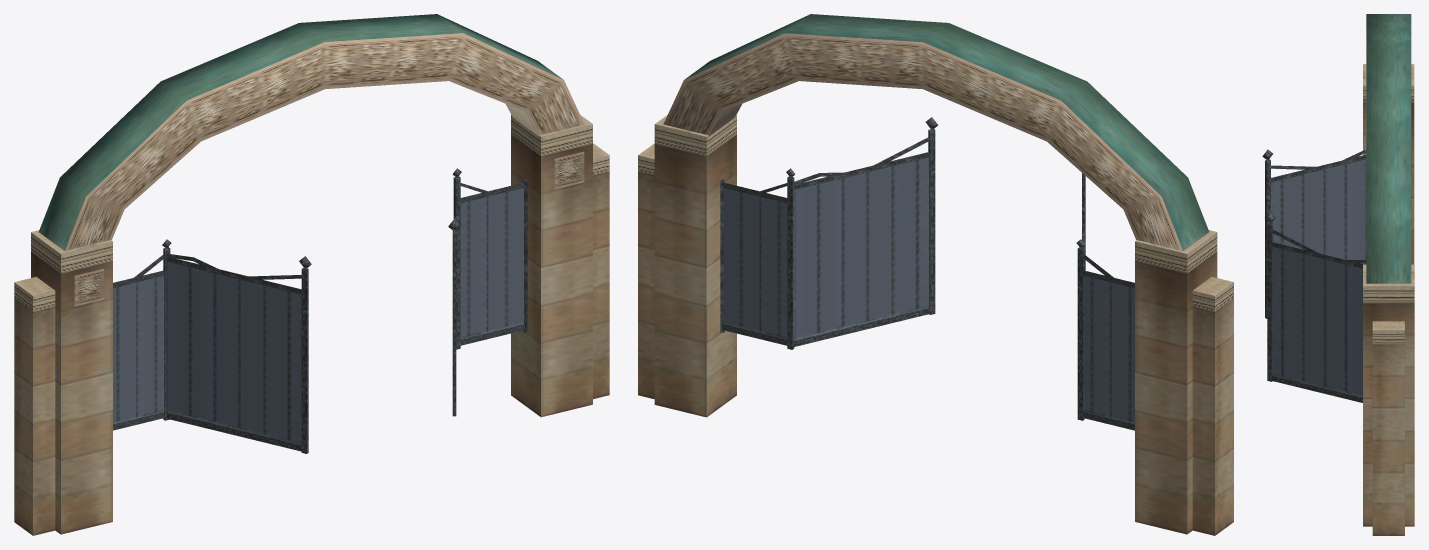
Rendered from thm_nboo_imprv_wide_gate_s02_l2.fbx.
3 views of the same model, side by side, from view 1: azimuth 30°, elevation 25°; view 2: azimuth 150°, elevation 25°; view 3: azimuth 270°, elevation 25° (orthographic). The views are drawn at different scales.
Parts seen in each view (by area): view 1: mesh_node; view 2: mesh_node; view 3: mesh_node.
Boxes of the visible parts, left/top/right/bottom form: mesh_node: left=14, top=14, right=609, bottom=535; mesh_node: left=638, top=14, right=1233, bottom=535; mesh_node: left=1262, top=14, right=1414, bottom=535.
Size of the model in its own units: 16.18 by 11.42 by 4.32.
